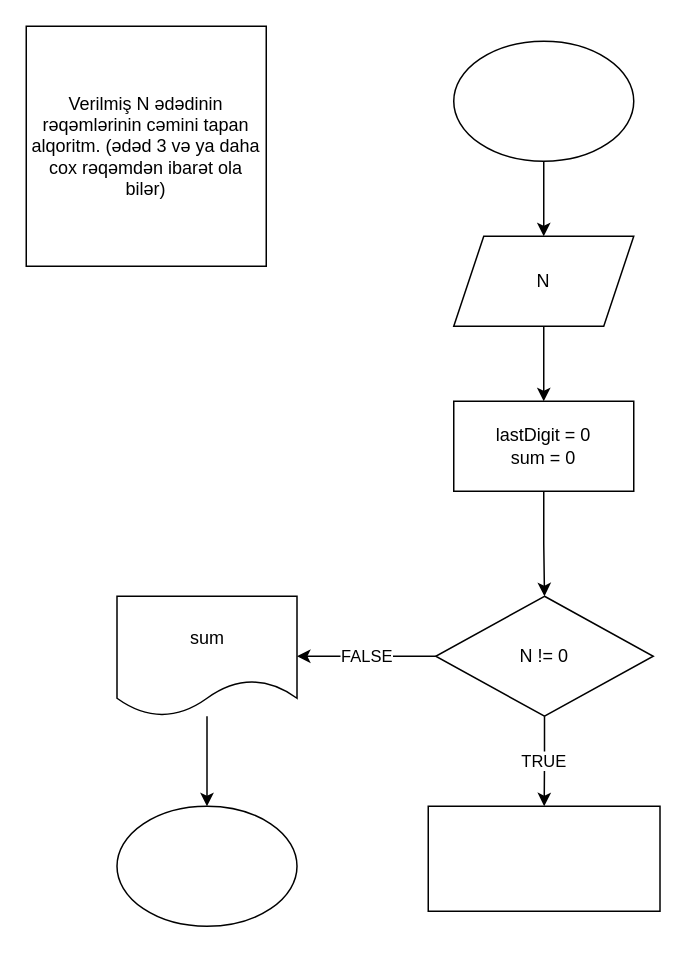
The diagram is 687 pixels wide and 953 high, and some of its shapes have lost their labels. The shapes that lost their labels are listed below. From the top down, each one's centre as x and y in pixels, then its label:
point (543, 100): START
point (206, 865): END
point (543, 858): lastDigit = N % 10 sum += lastDigit N = (N - lastDigit) / 10
